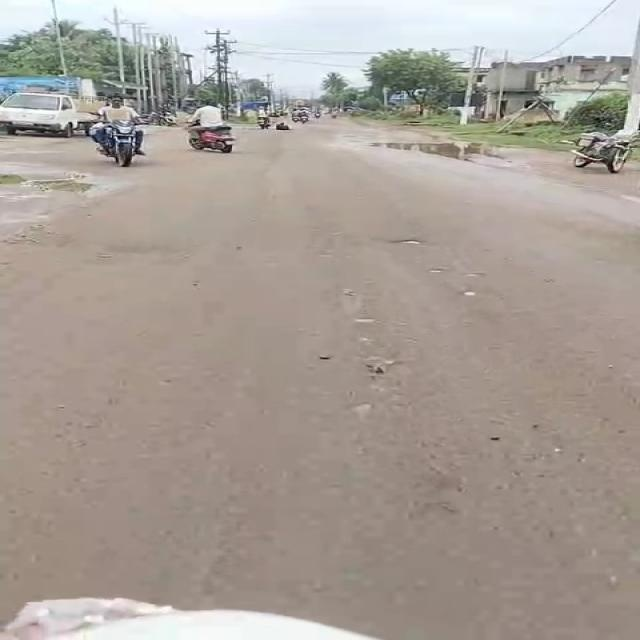pothole: (377, 139, 505, 162), (38, 176, 91, 197), (342, 400, 392, 417), (358, 354, 406, 371), (388, 234, 432, 250), (0, 169, 26, 191), (455, 286, 490, 300), (350, 316, 386, 328), (418, 267, 451, 279), (462, 269, 489, 281)
